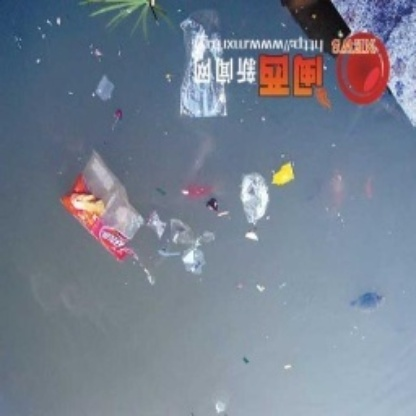plastic-bag: (63, 150, 147, 260), (237, 170, 272, 228)
